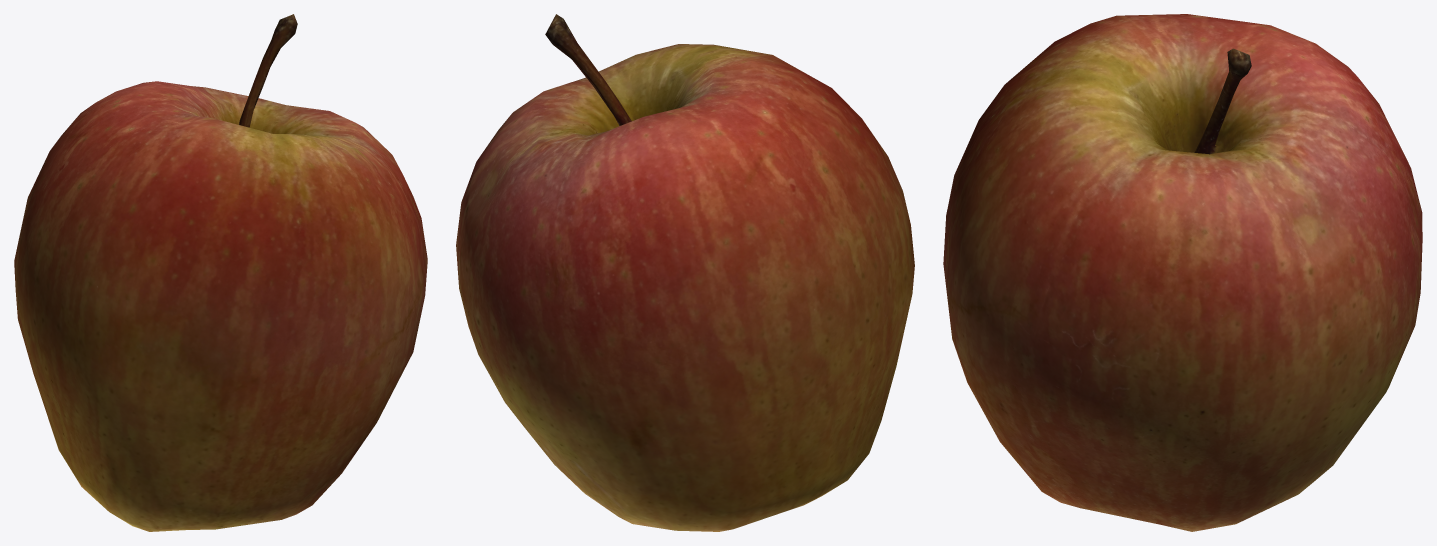
File: low_poly_apple_game_ready.glb
3 views of the same model, side by side, from view 1: azimuth 30°, elevation 25°; view 2: azimuth 150°, elevation 25°; view 3: azimuth 270°, elevation 25° (orthographic). The views are drawn at different scales.
Visible parts, largest first — view 1: Apple; view 2: Apple; view 3: Apple.
Part boxes in pixels (x1=…): Apple: x1=14, y1=14, x2=427, y2=531; Apple: x1=456, y1=14, x2=914, y2=531; Apple: x1=943, y1=14, x2=1422, y2=531.
Bounding box in the file's own units: 0.634 × 0.7295 × 0.6257.
1 material, 1 textured.
